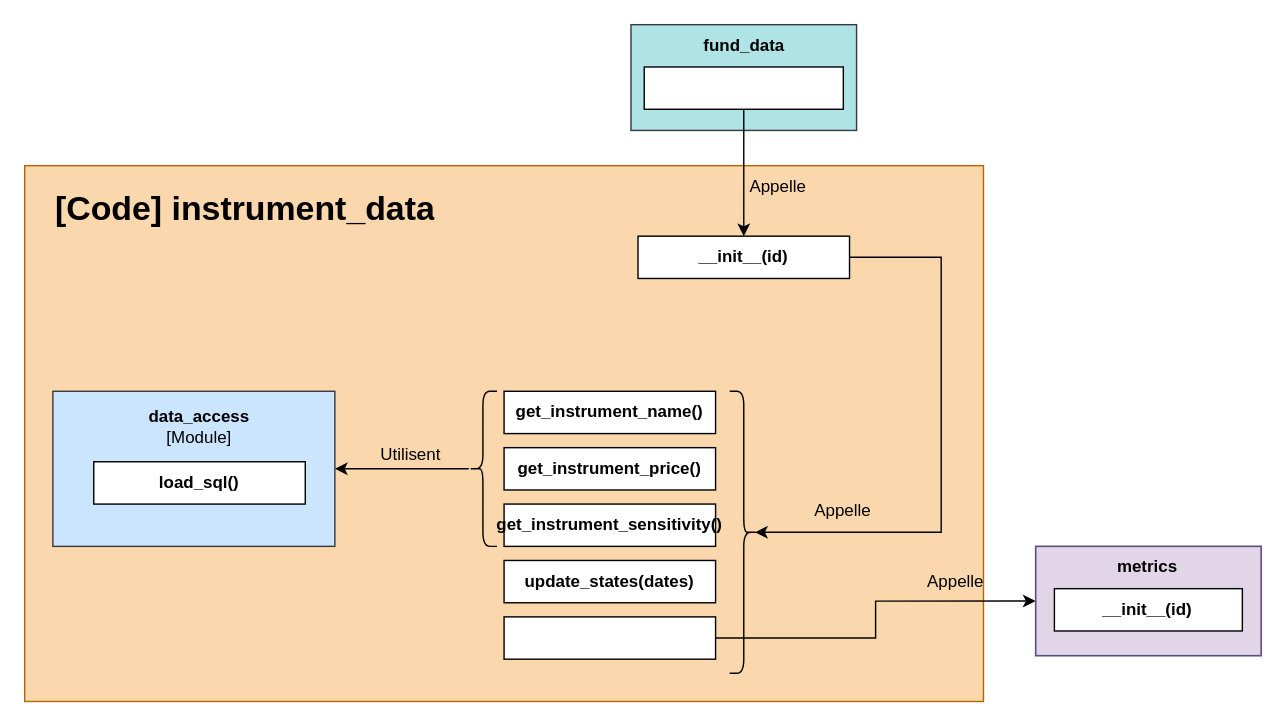
This 1286x726 diagram has some shape labels left out. Each missing label, with the centre of its shape:
"update_inst_data()" belongs at [743,87].
"update_metrics()" belongs at [609,637].
